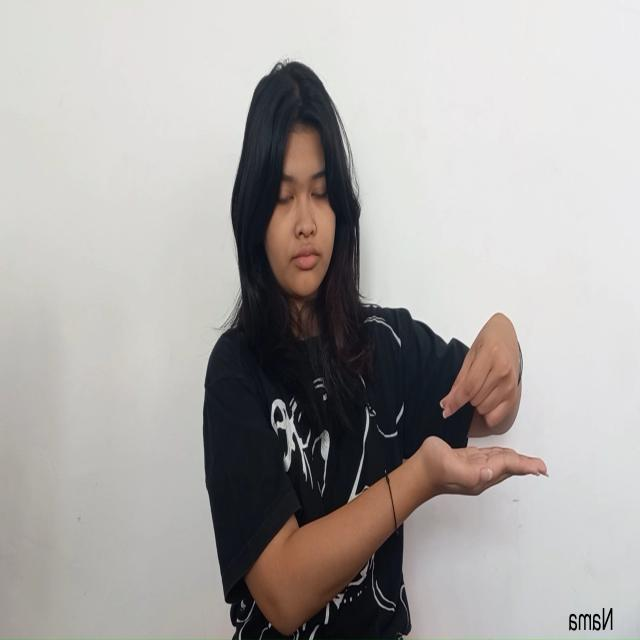Nama -BISINDO-: (419, 310, 550, 502)
